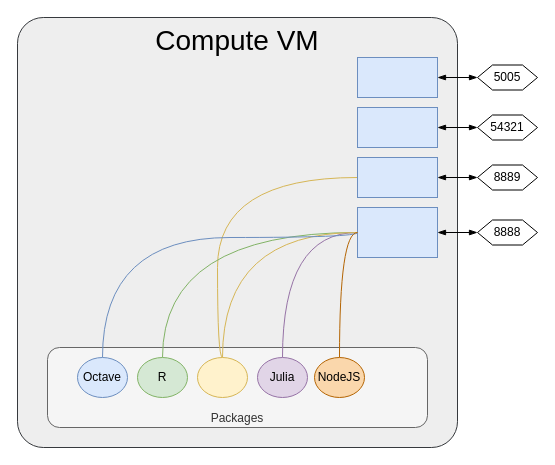
Image size: 555x465. Some labels were removed from this diagram. The shapes that lost their labels are listed below. From the top down, each one's centre as x and y in pixels, then its label:
At point 397,77: "Grok Compute".
At point 397,127: "H2O".
At point 397,177: "Jupyter Notebooks".
At point 397,232: "Jupyter Kernel Gateway".
At point 222,377: "Python".
